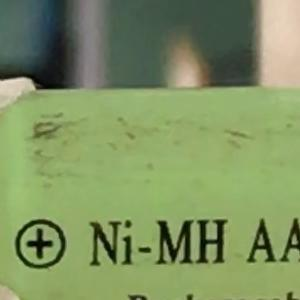NI-MH: (80, 209, 232, 276)
